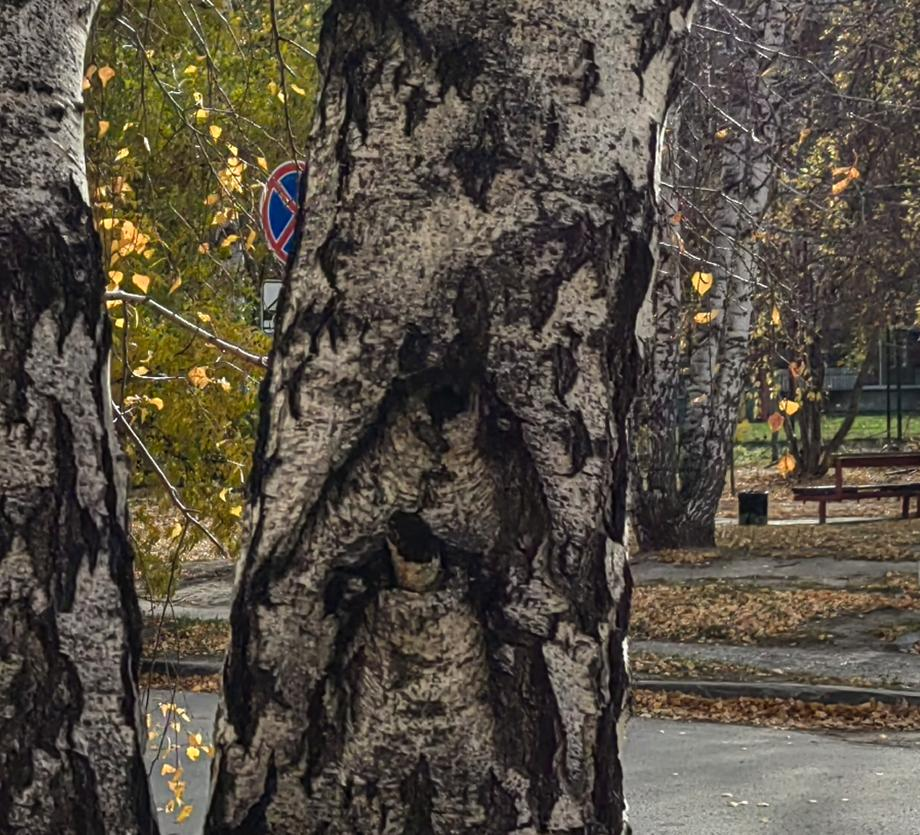obstructed_road_sign: (261, 161, 306, 261), (260, 279, 282, 336)
